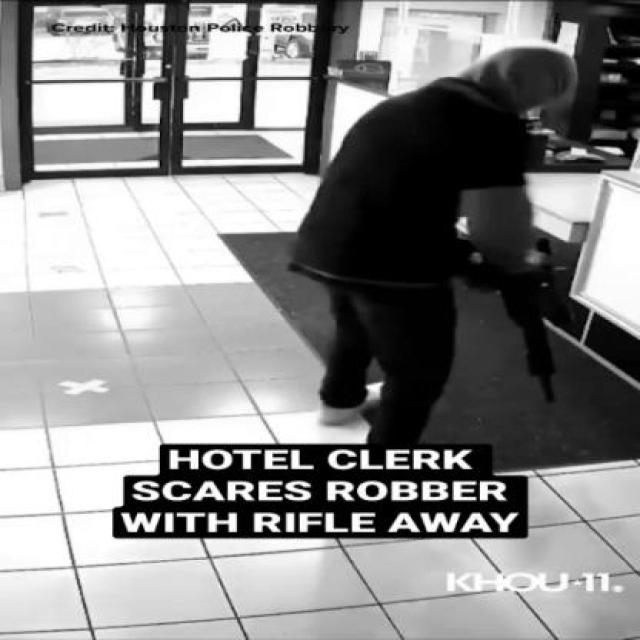weapon: (454, 234, 574, 403)
